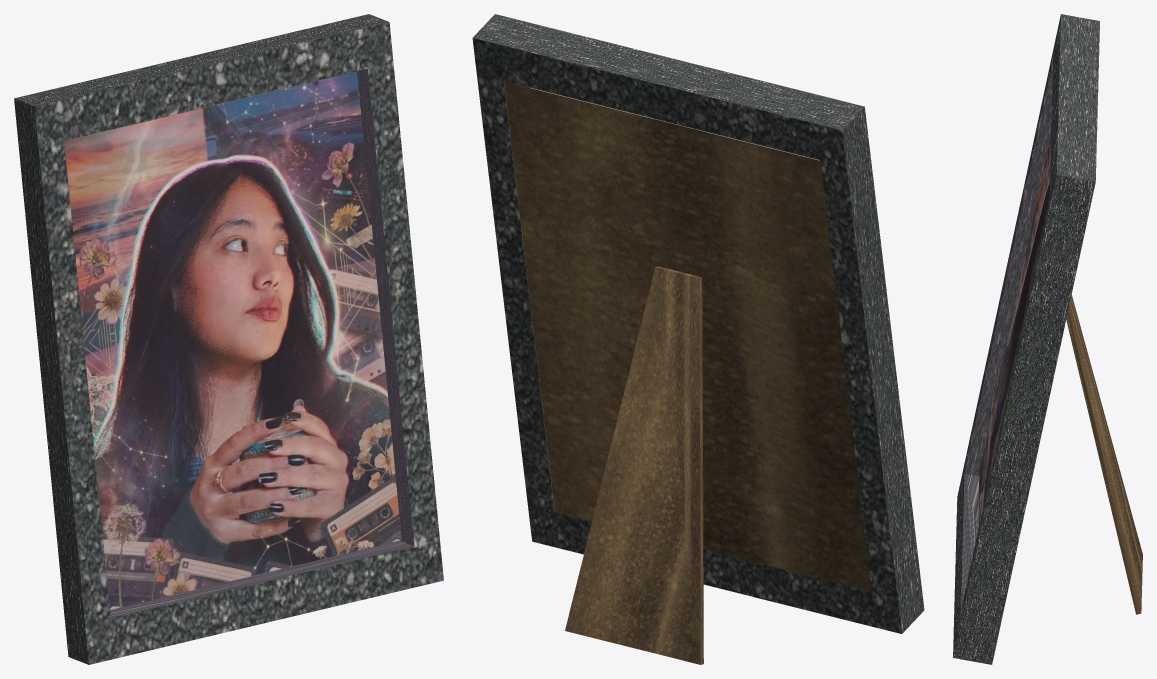
File: appu_frame.glb
The picture shows the model from 3 angles, left to right: view 1: azimuth 30°, elevation 25°; view 2: azimuth 150°, elevation 25°; view 3: azimuth 270°, elevation 25°; orthographic projection. The views are drawn at different scales.
Visible parts, largest first — view 1: Photo.001, PhotoFrame; view 2: PhotoFrame; view 3: PhotoFrame, Photo.001.
Part boxes in pixels (<box>): Photo.001: <box>64,71,401,609</box>; PhotoFrame: <box>14,14,443,664</box>; PhotoFrame: <box>472,14,924,664</box>; PhotoFrame: <box>953,14,1142,664</box>; Photo.001: <box>979,136,1050,525</box>.
Size of the model in its own units: 0.4217 by 0.5978 by 0.2097.
4 materials, 3 textured.
